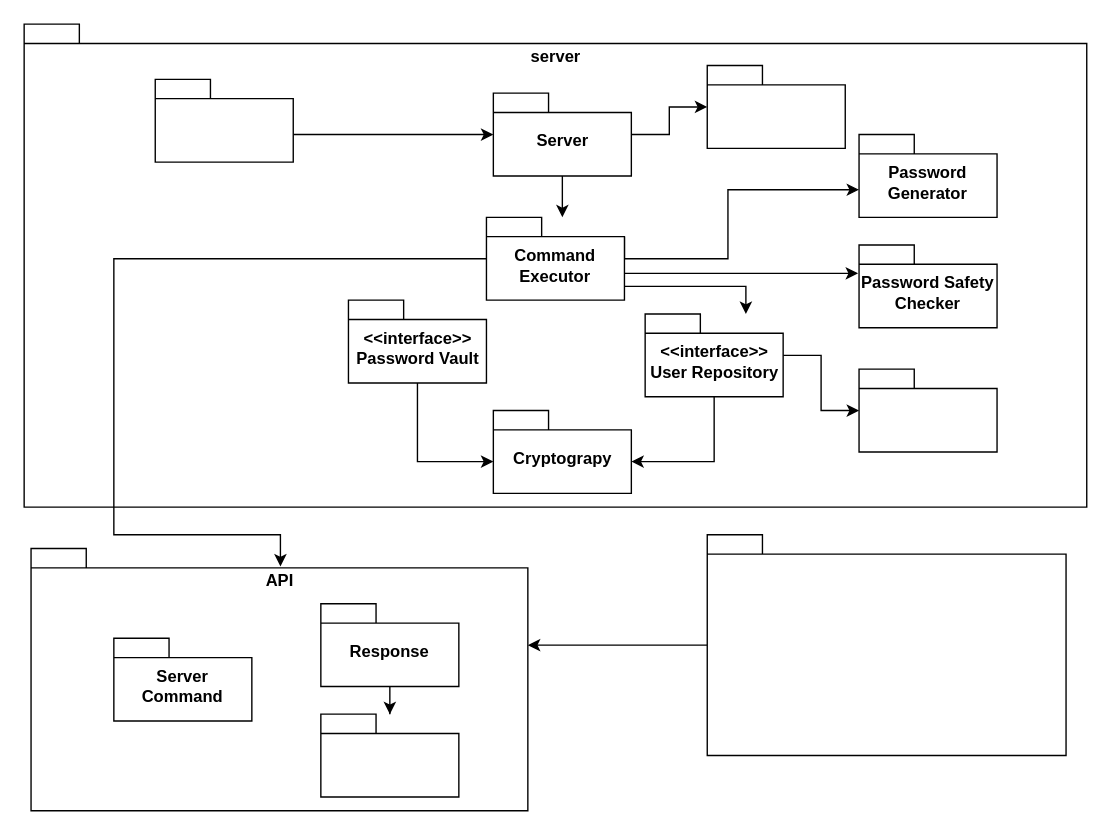
Image size: 1111x835. Some labels were removed from this diagram. The centre of each missing label's shape, as x and y in pixels:
"Client" belongs at pixel 886 644.
"Communication" belongs at pixel 775 106.
"Main" belongs at pixel 223 120.
"Server Response Code" belongs at pixel 389 755.
"Session" belongs at pixel 927 410.
